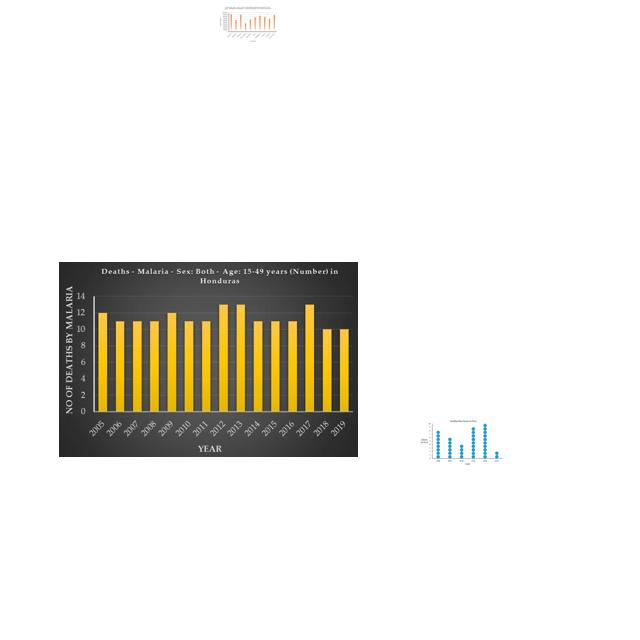Graph: (59, 262, 358, 457), (418, 417, 505, 468), (218, 6, 278, 42)
